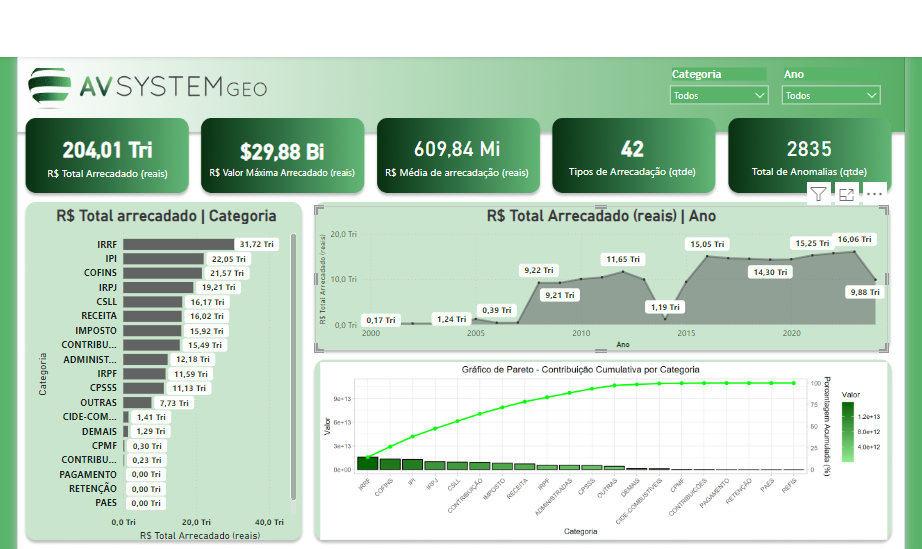

What the dashboard file says about the page in this screenshot:
{"tool":"powerbi","page":{"name":"Dashboard | Arrecadação","canvas":[1280,720],"ordinal":0},"visuals":[{"type":"scriptVisual","fields":{"Values":["Arrecadacao-Anomalia.Valor","Arrecadacao-Anomalia.UF","Arrecadacao-Anomalia.Anomalia","Arrecadacao-Anomalia.Ano"]},"box":[1500.5,181.4,599,599],"z":0},{"type":"card","fields":{"Values":["Medidas.R$ Total Arrecadado"]},"box":[23,103.7,214.6,79.2],"z":1000},{"type":"slicer","fields":{"Values":["Calendario.Ano"]},"box":[1091.9,11.7,162,69.3],"z":2000},{"type":"barChart","title":"R$ Total arrecadado | Categoria","fields":{"Category":["Arrecadacao-Estado.Categoria"],"Y":["Medidas.R$ Total Arrecadado"]},"box":[23.4,216,384.4,487],"z":3000},{"type":"scriptVisual","fields":{"Values":["Arrecadacao-Estado.Ano","Arrecadacao-Estado.Categoria","Arrecadacao-Estado.Valor"]},"box":[436.6,440.2,817.3,256.5],"z":4000},{"type":"card","fields":{"Values":["Medidas.R$ Media Arrecadacao"]},"box":[521.2,101.7,224.1,79.2],"z":5000},{"type":"card","fields":{"Values":["Medidas.Total Anomalias"]},"box":[1033.4,100.8,214.2,81],"z":6000},{"type":"card","fields":{"Values":["Medidas.Máxima por Tipo"]},"box":[262.8,103.5,236.7,81],"z":7000},{"type":"card","fields":{"Values":["Medidas.% Crescimento Anual"]},"box":[778.6,100.8,214.2,81],"z":8000},{"type":"areaChart","title":"R$ Total Arrecadado (reais) | Ano","fields":{"Category":["Arrecadacao-Estado.Ano"],"Y":["Medidas.R$ Total Arrecadado"]},"box":[428.5,216,819.1,209.7],"z":9000},{"type":"slicer","fields":{"Values":["Arrecadacao-Estado.Categoria"]},"box":[929.8,11.7,162,69.3],"z":10000}]}

Visuals, with their boxes on the page's 1280x720 design canvas (x1, y1, x2, y2). These are canvas units, not pixel positions in the 922x549 screenshot, which may show the page scaled, cropped or inside an application window:
scriptVisual - Arrecadacao-Anomalia.Valor x Arrecadacao-Anomalia.UF: x1=1500, y1=181, x2=2100, y2=780
card - Medidas.R$ Total Arrecadado: x1=23, y1=104, x2=238, y2=183
slicer - Calendario.Ano: x1=1092, y1=12, x2=1254, y2=81
"R$ Total arrecadado | Categoria" barChart: x1=23, y1=216, x2=408, y2=703
scriptVisual - Arrecadacao-Estado.Ano x Arrecadacao-Estado.Categoria: x1=437, y1=440, x2=1254, y2=697
card - Medidas.R$ Media Arrecadacao: x1=521, y1=102, x2=745, y2=181
card - Medidas.Total Anomalias: x1=1033, y1=101, x2=1248, y2=182
card - Medidas.Máxima por Tipo: x1=263, y1=104, x2=500, y2=184
card - Medidas.% Crescimento Anual: x1=779, y1=101, x2=993, y2=182
"R$ Total Arrecadado (reais) | Ano" areaChart: x1=428, y1=216, x2=1248, y2=426
slicer - Arrecadacao-Estado.Categoria: x1=930, y1=12, x2=1092, y2=81
